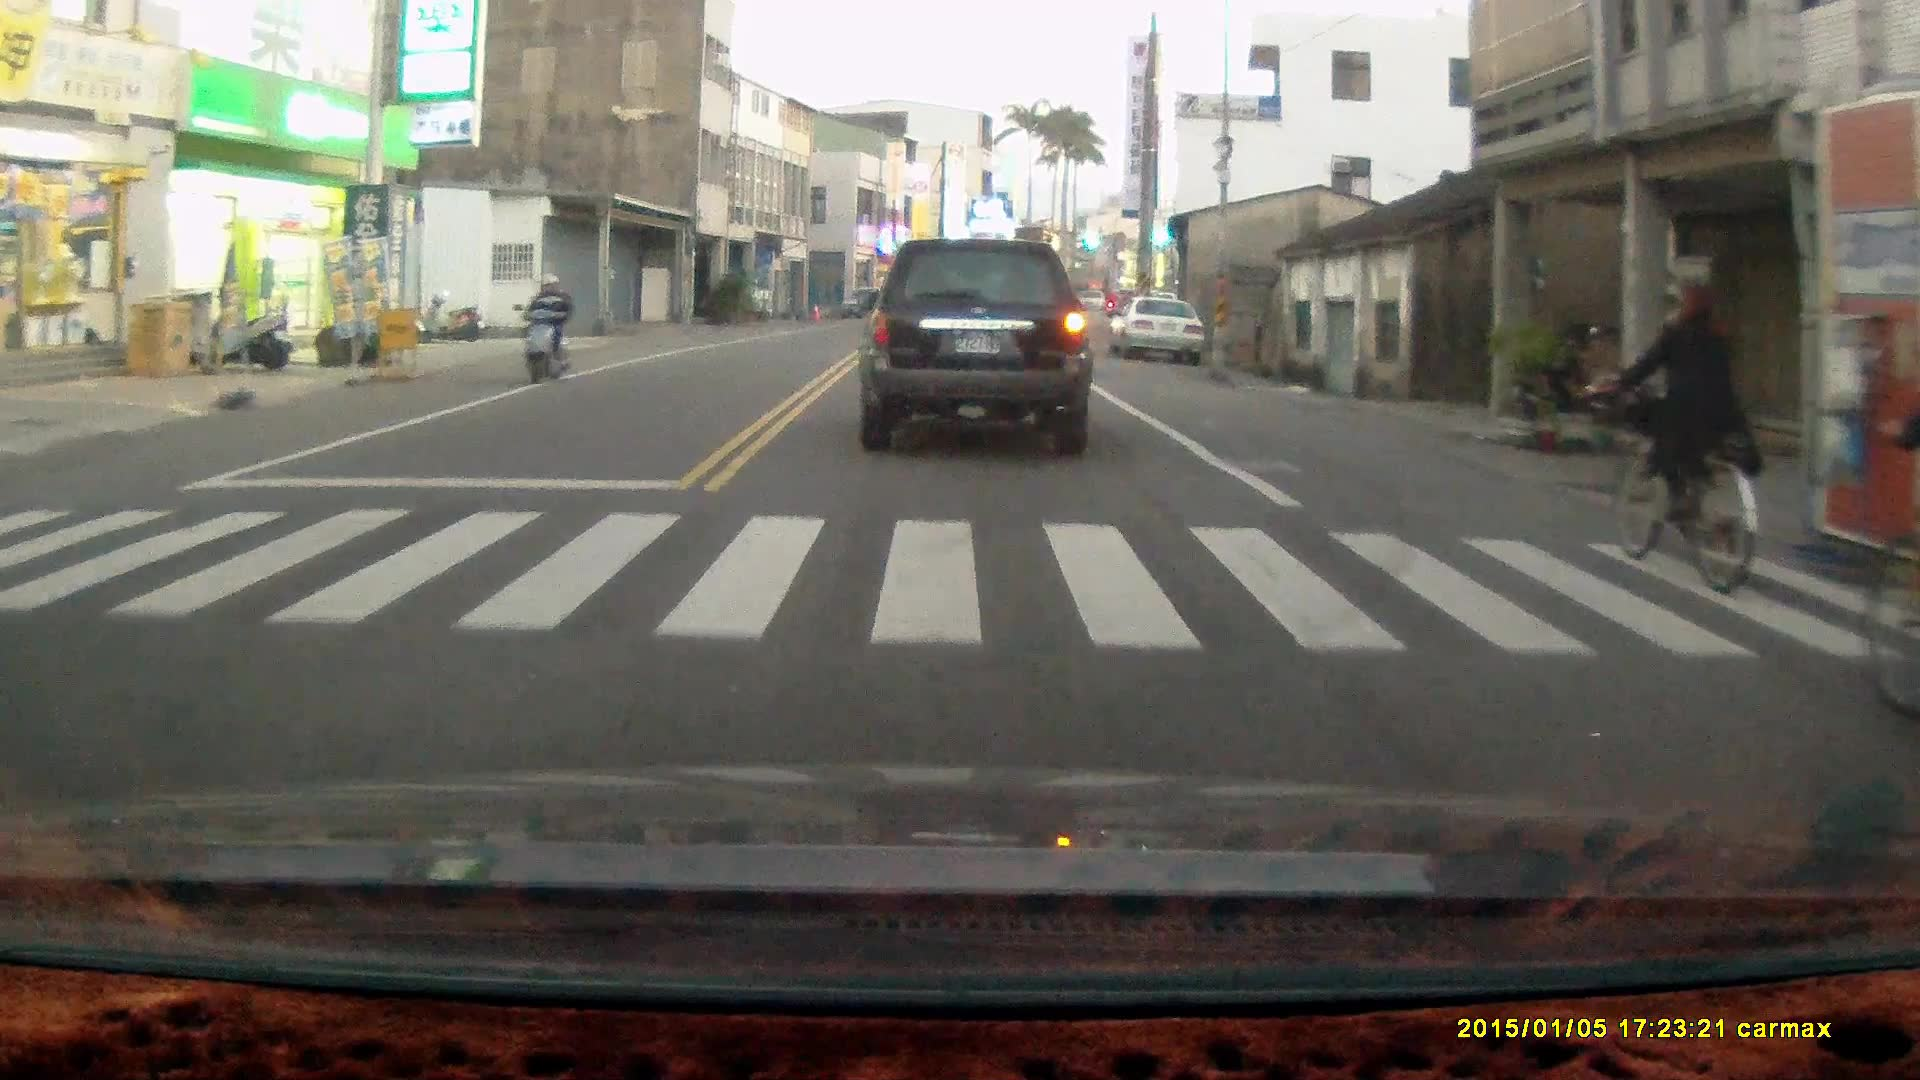rider: (1606, 280, 1763, 600), (512, 268, 574, 385)
vehicle: (864, 238, 1096, 463), (1114, 298, 1207, 365)
